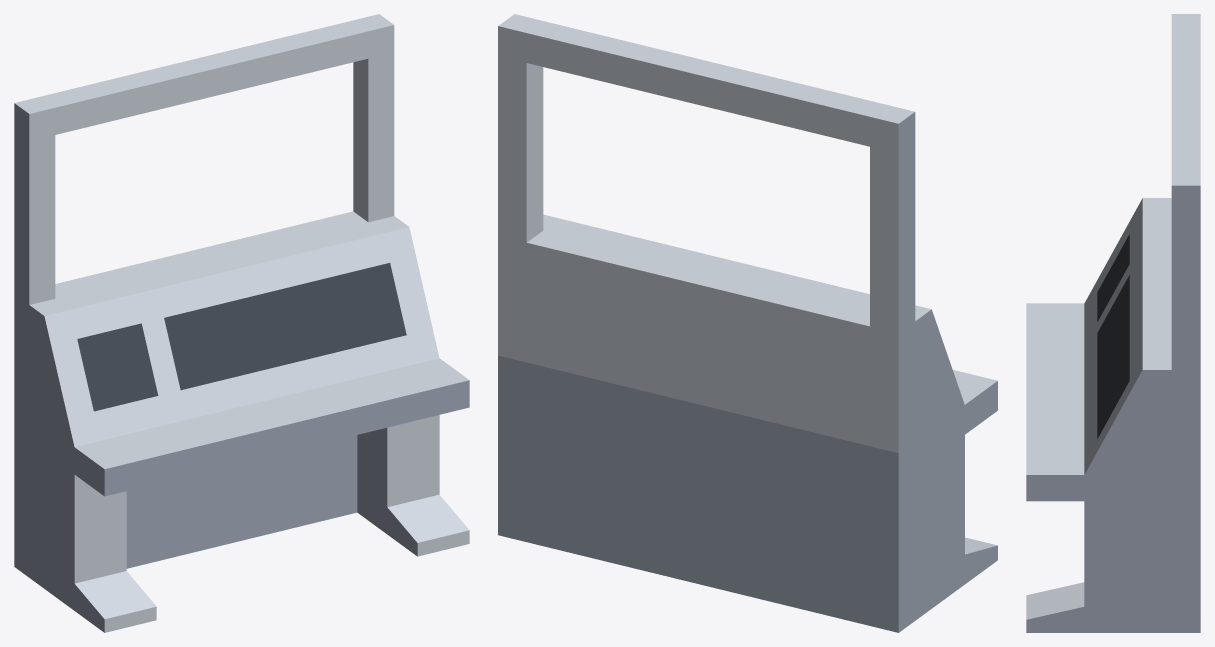
File: desk_computerScreen.dae
3 views of the same model, side by side, from view 1: azimuth 30°, elevation 25°; view 2: azimuth 150°, elevation 25°; view 3: azimuth 270°, elevation 25° (orthographic). The views are drawn at different scales.
Parts seen in each view (by area): view 1: desk_computerScreen; view 2: desk_computerScreen; view 3: desk_computerScreen.
Part boxes in pixels (x1,y1,x2,y2): desk_computerScreen: [14, 14, 469, 632]; desk_computerScreen: [498, 14, 997, 632]; desk_computerScreen: [1026, 14, 1200, 632].
Bounding box in the file's own units: 0.525 × 0.6375 × 0.225.
